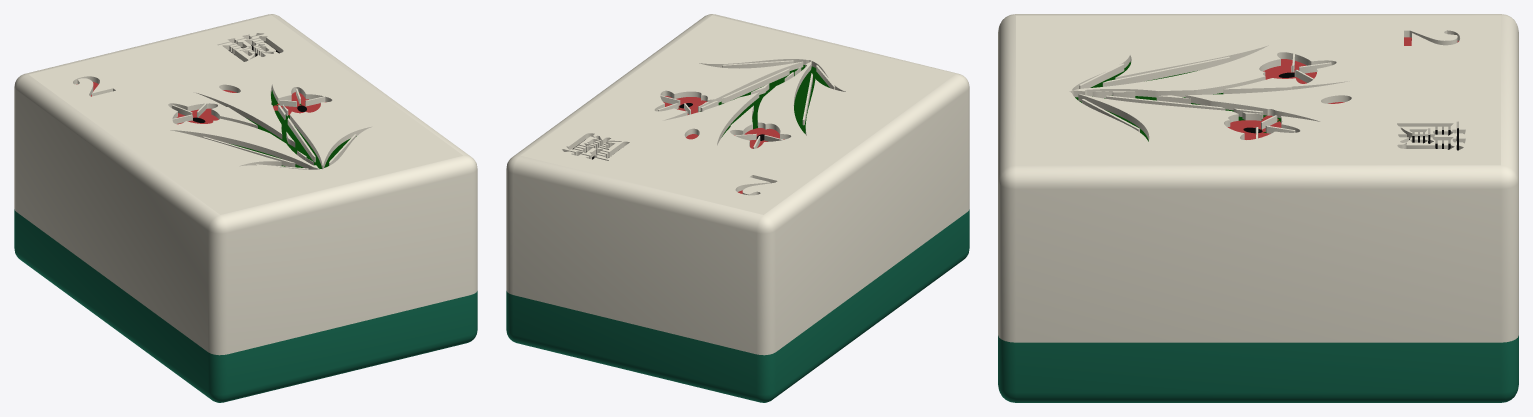
The model's file is Flower2_Orchid.glb.
The picture shows the model from 3 angles, left to right: view 1: azimuth 30°, elevation 25°; view 2: azimuth 150°, elevation 25°; view 3: azimuth 270°, elevation 25°; orthographic projection. The views are drawn at different scales.
Visible parts, largest first — view 1: Flower2_Orchid_body, Flower2_Orchid_inset; view 2: Flower2_Orchid_body, Flower2_Orchid_inset; view 3: Flower2_Orchid_body, Flower2_Orchid_inset.
Boxes of the visible parts, left/top/right/bottom form: Flower2_Orchid_body: left=14, top=14, right=477, bottom=402; Flower2_Orchid_inset: left=76, top=41, right=356, bottom=168; Flower2_Orchid_body: left=506, top=14, right=969, bottom=402; Flower2_Orchid_inset: left=572, top=65, right=829, bottom=193; Flower2_Orchid_body: left=998, top=14, right=1518, bottom=402; Flower2_Orchid_inset: left=1075, top=37, right=1458, bottom=150.
Size of the model in its own units: 0.024 by 0.016 by 0.032.
